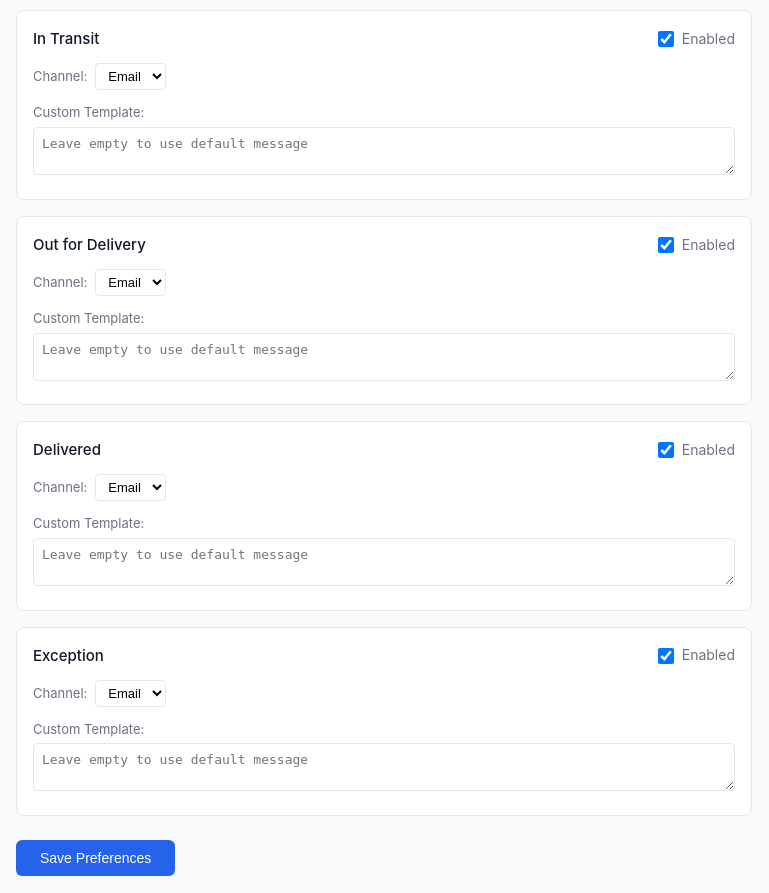
Test: NotificationSettings › toggles enabled state when checkbox is clicked
The image size is (769, 893).
(page scrolled)
Click the checkbox with test id "toggle-delivered". click: (666, 450)
box: x1=658 y1=442 x2=674 y2=458
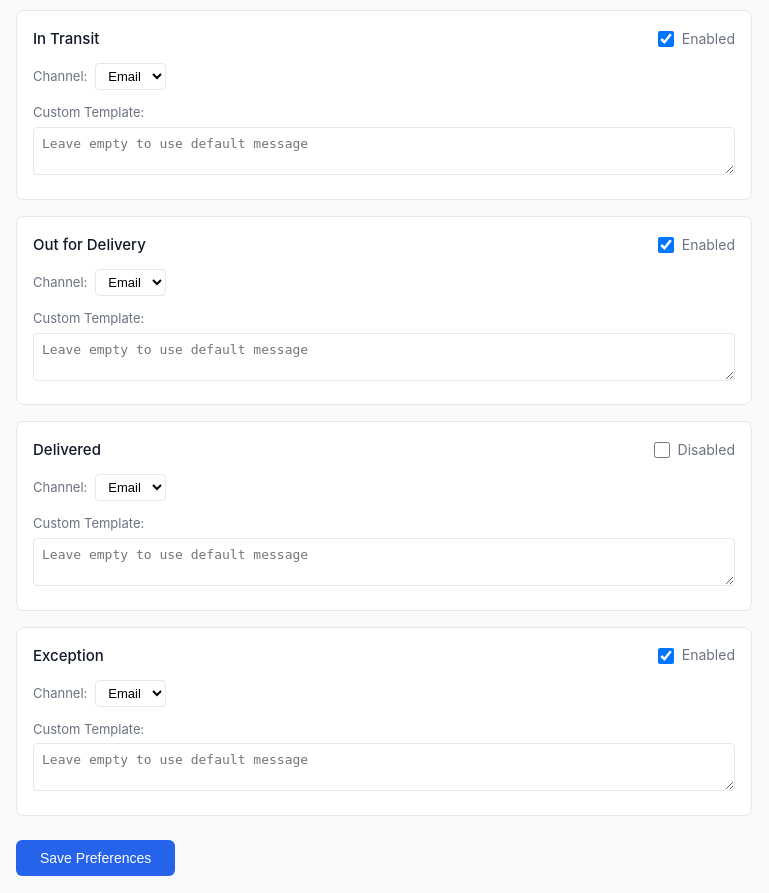
Expected: the checkbox with test id "toggle-delivered" is not checked, x1=654 y1=442 x2=670 y2=458
Expected: the text "Disabled" is shown, x1=678 y1=439 x2=735 y2=461
